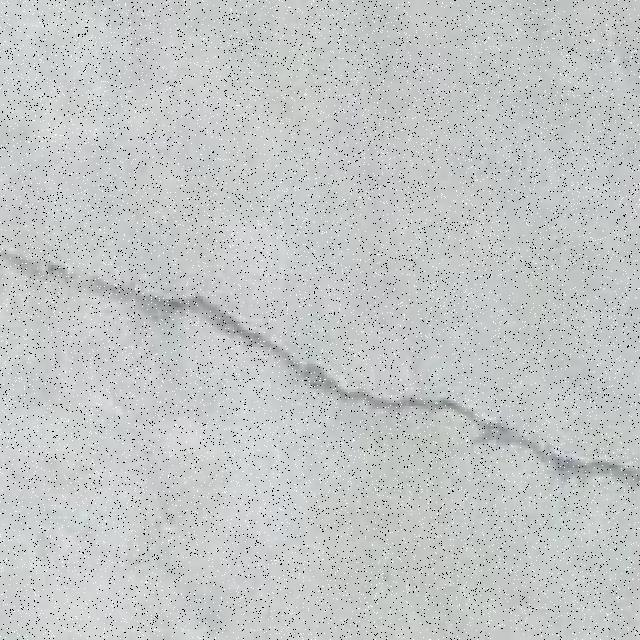minor crack: (7, 246, 637, 488), (7, 457, 639, 638)
moderate crack: (452, 411, 634, 483), (295, 364, 447, 412)
severe crack: (136, 280, 304, 360), (8, 250, 180, 310)
